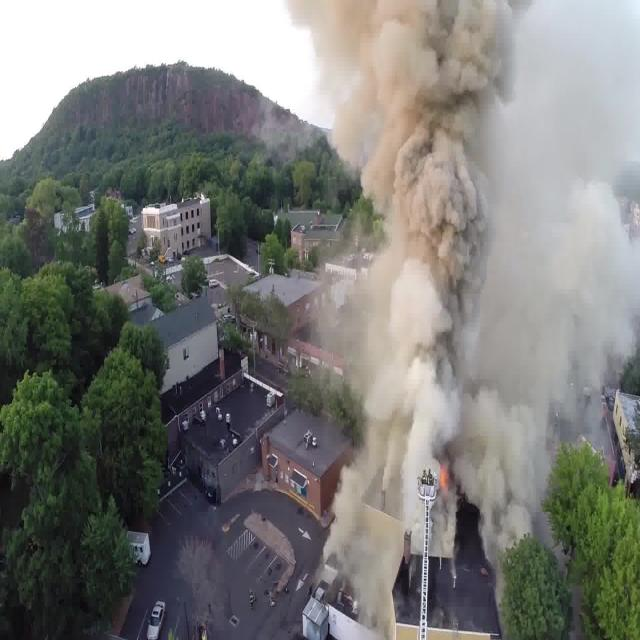Fire: (436, 454, 452, 496)
Smoke: (322, 0, 590, 604)
